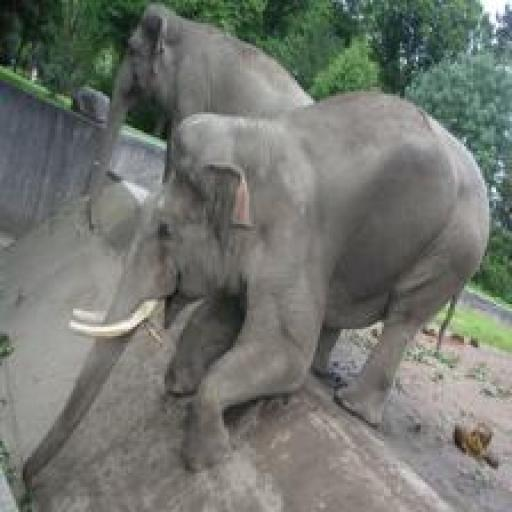Elephant: (18, 80, 498, 491), (66, 0, 318, 215)
